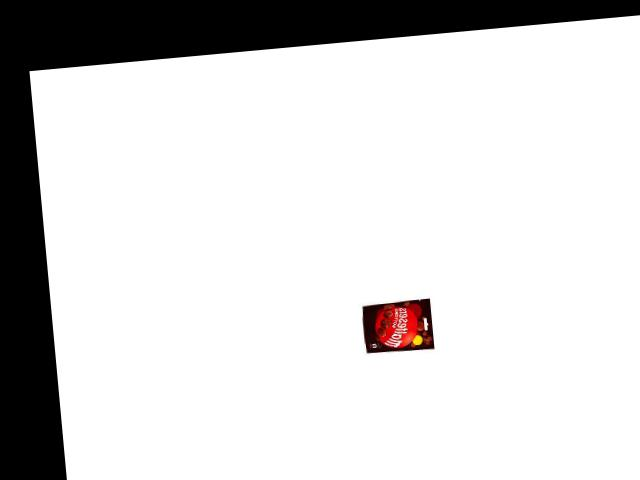chocolate: (359, 297, 435, 355)
